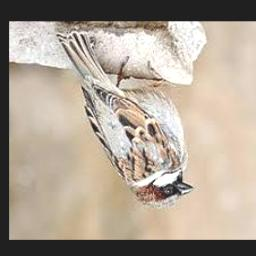Sparrow: (57, 32, 195, 210)
